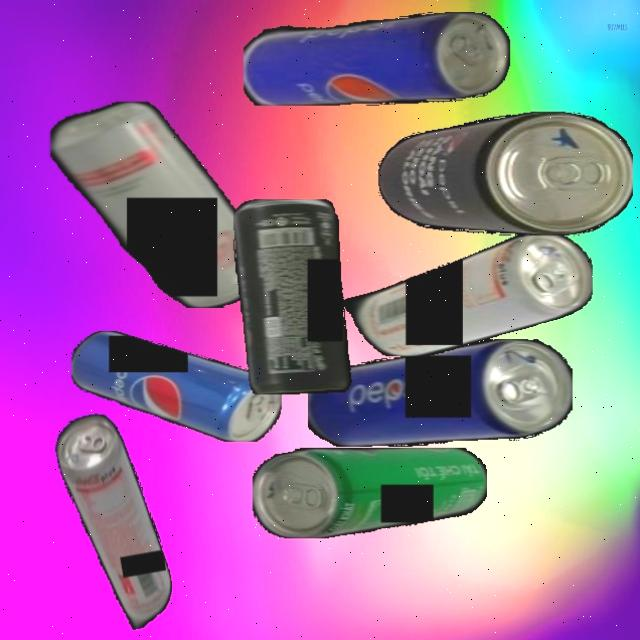debris: (49, 102, 270, 308), (377, 111, 633, 236), (342, 232, 593, 356), (50, 406, 178, 637), (307, 339, 572, 447), (243, 12, 510, 106), (71, 330, 282, 442), (234, 198, 352, 394), (253, 447, 487, 538)
